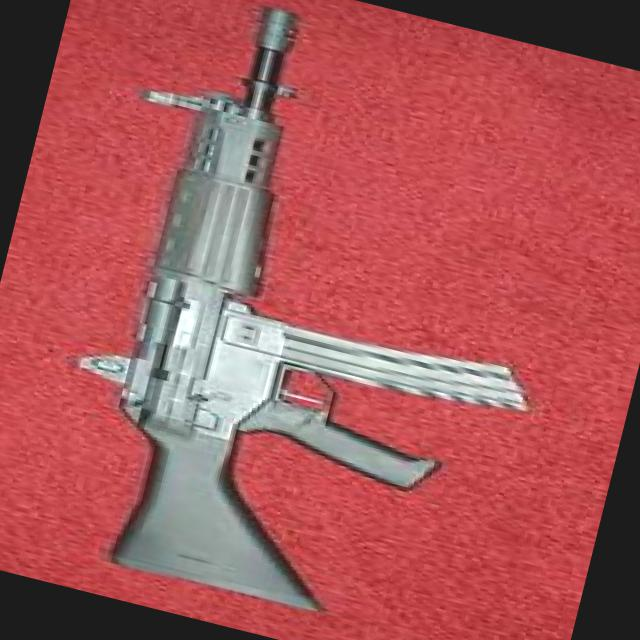long weapon: (14, 0, 614, 639)
